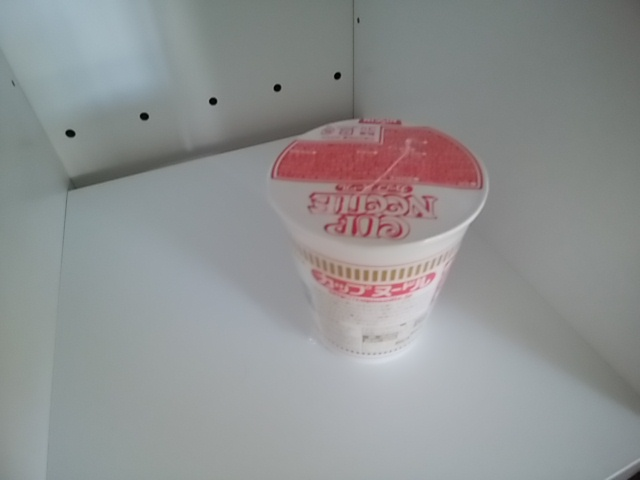cup-ramen: (265, 113, 493, 374)
